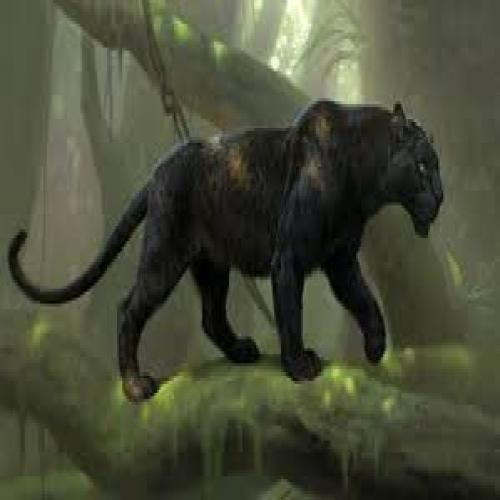panther-endangered: (8, 95, 447, 404)
